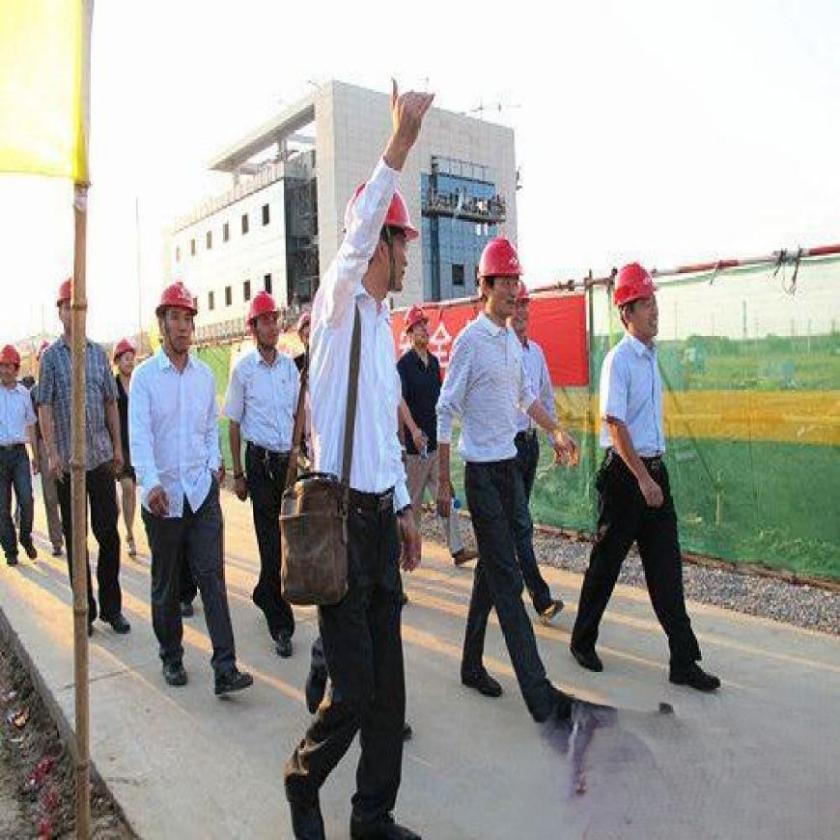Con_casco: (343, 175, 427, 309), (607, 268, 684, 362), (471, 224, 531, 336), (152, 273, 202, 364), (243, 284, 288, 367)
